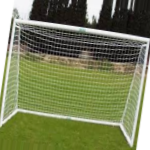goals: (1, 18, 150, 149)
